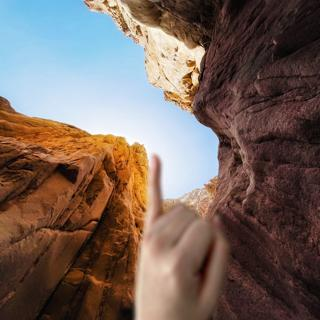Fine: (126, 138, 238, 311)
